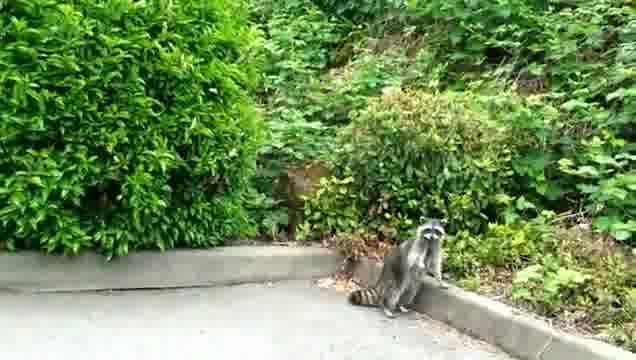raccoon: (347, 213, 451, 320)
